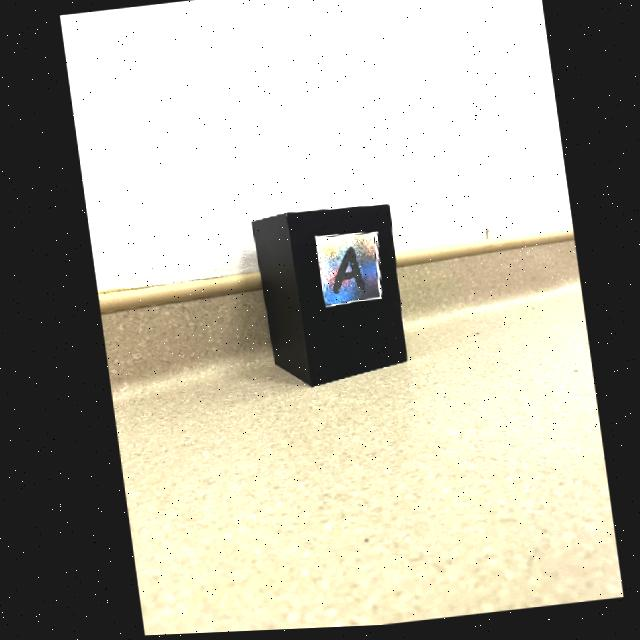A: (328, 250, 361, 296)
